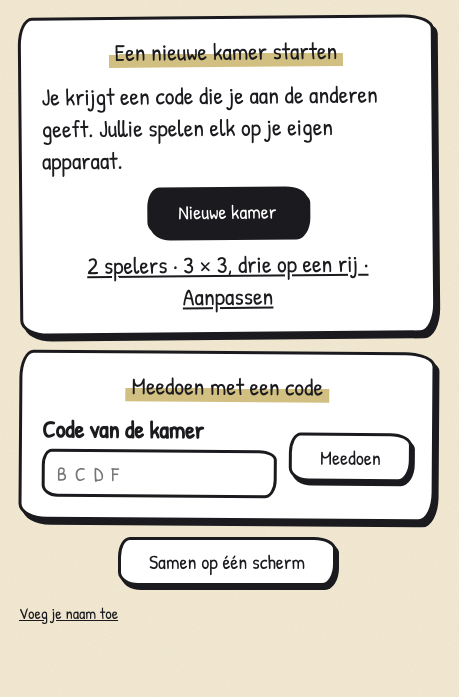
it: StartScreen › a new room › says what the room is made with, and keeps the players and the field behind Aanpassen
Expected: the element "Veld" is not shown
Expected: the field labelled "Aantal spelers" is not shown
Click the button "2 spelers · 3 × 3, drie op een rij · Aanpassen".
click(228, 280)  # box [43, 246, 413, 314]
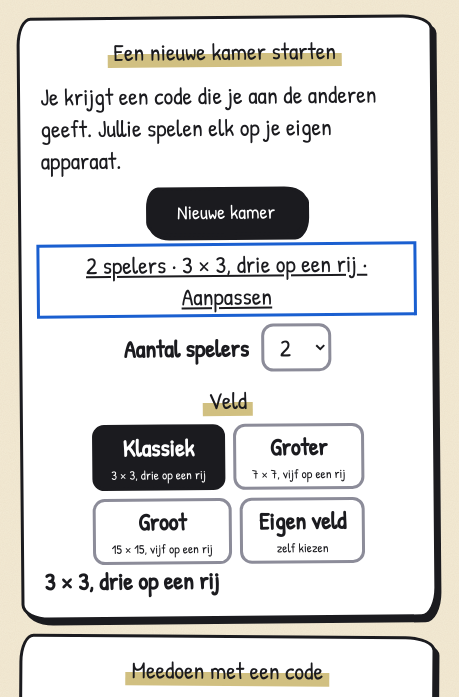
Now the button "2 spelers · 3 × 3, drie op een rij · Aanpassen" is expanded, box [41, 246, 412, 314]
Now the element "Veld" is shown, box [43, 382, 414, 598]
Now the dropdown labelled "Aantal spelers" is shown, box [261, 323, 331, 372]
